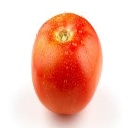tomato: (31, 12, 103, 114)
